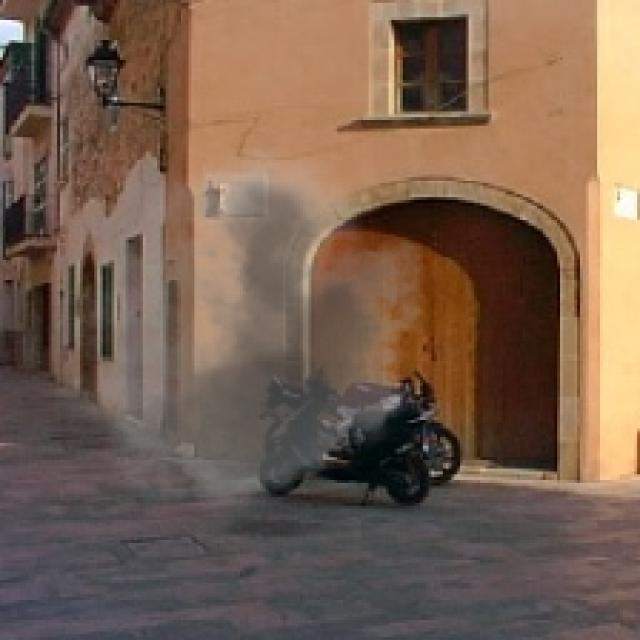smoke: (51, 146, 443, 523)
